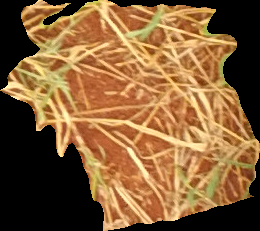soil: (2, 2, 259, 230)
